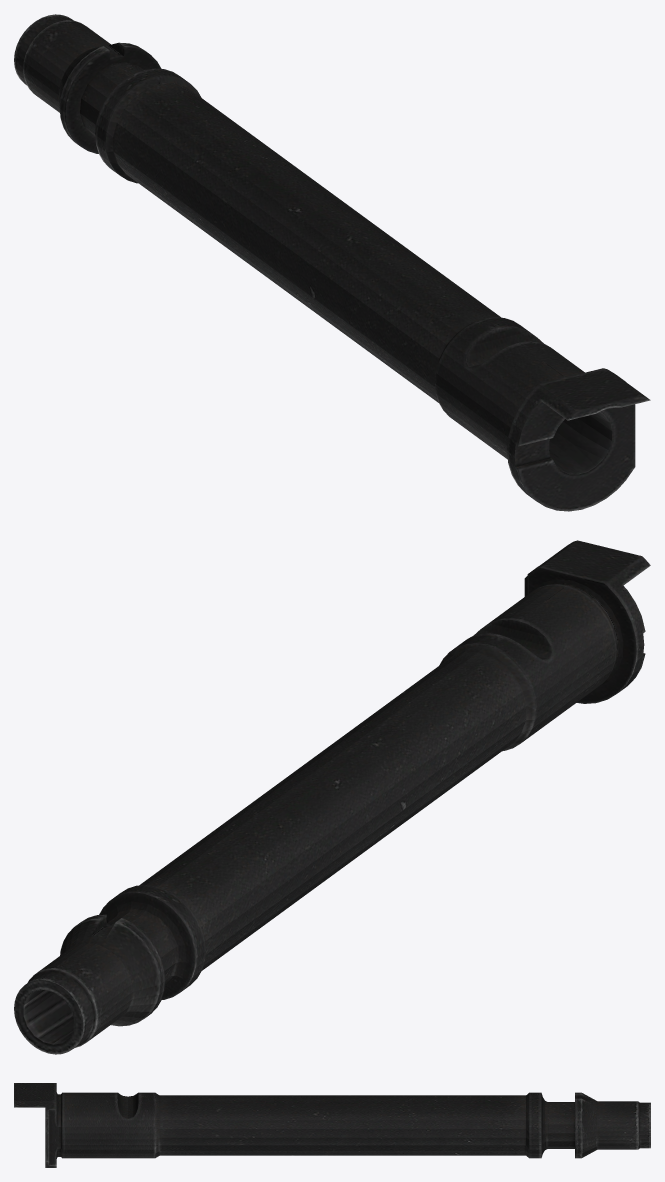
The picture shows the model from 3 angles, top to bottom: view 1: azimuth 30°, elevation 25°; view 2: azimuth 150°, elevation 25°; view 3: azimuth 270°, elevation 25°; orthographic projection. The views are drawn at different scales.
Parts seen in each view (by area): view 1: TW_5fc3e4a27283c4046c5814ab_PZ_Import; view 2: TW_5fc3e4a27283c4046c5814ab_PZ_Import; view 3: TW_5fc3e4a27283c4046c5814ab_PZ_Import.
Part boxes in pixels (x1=…): TW_5fc3e4a27283c4046c5814ab_PZ_Import: x1=14, y1=14, x2=650, y2=511; TW_5fc3e4a27283c4046c5814ab_PZ_Import: x1=14, y1=540, x2=650, y2=1054; TW_5fc3e4a27283c4046c5814ab_PZ_Import: x1=14, y1=1083, x2=650, y2=1167.
Size of the model in its own units: 0.0148 by 0.1214 by 0.0151.
1 material, 1 textured.
